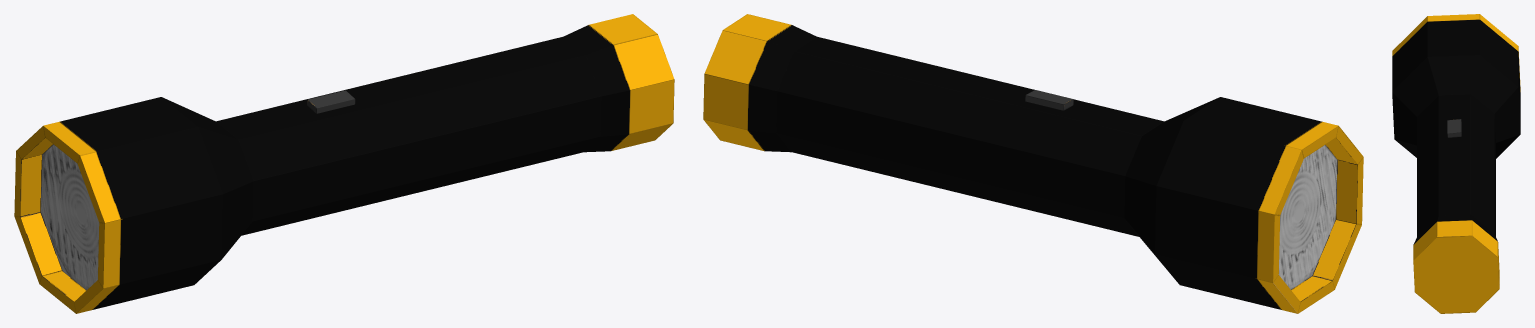
File: lantern.obj
3 views of the same model, side by side, from view 1: azimuth 30°, elevation 25°; view 2: azimuth 150°, elevation 25°; view 3: azimuth 270°, elevation 25° (orthographic). The views are drawn at different scales.
Visible parts, largest first — view 1: Cylinder_Cylinder.004; view 2: Cylinder_Cylinder.004; view 3: Cylinder_Cylinder.004.
Part boxes in pixels (<box>): Cylinder_Cylinder.004: <box>14,14,674,313</box>; Cylinder_Cylinder.004: <box>703,14,1363,313</box>; Cylinder_Cylinder.004: <box>1392,14,1520,313</box>.
Size of the model in its own units: 0.014 by 0.00376 by 0.00376.
